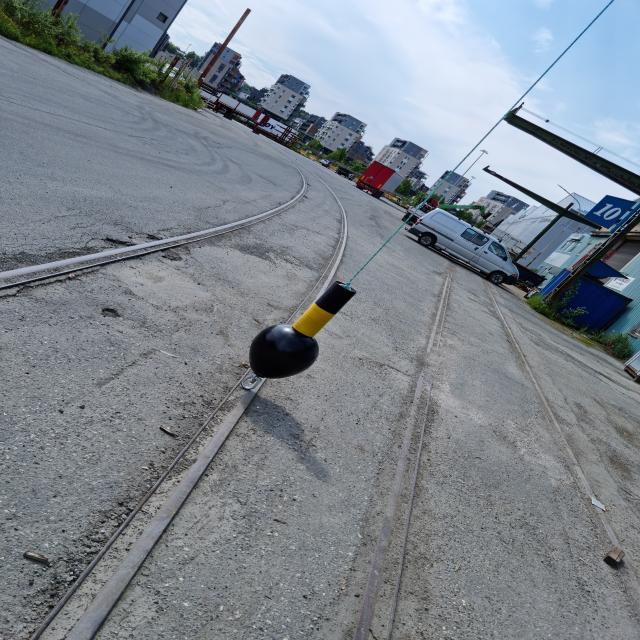east: (247, 280, 357, 380)
